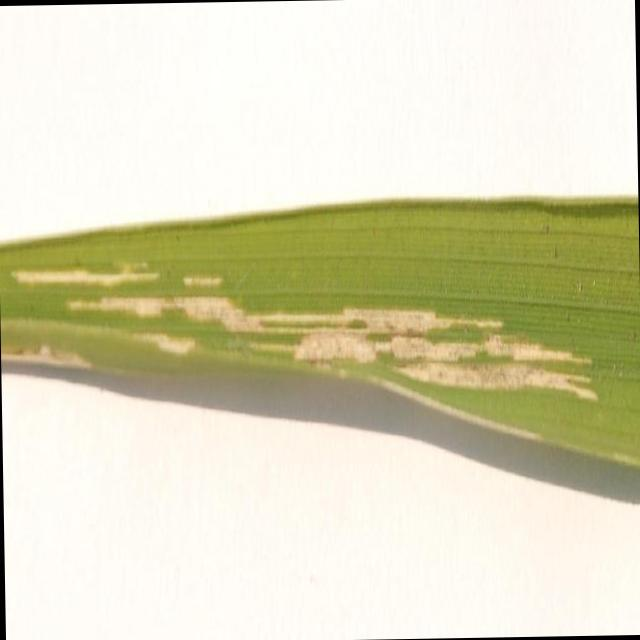Rice_Bacterial_Blight: (4, 237, 609, 461)
